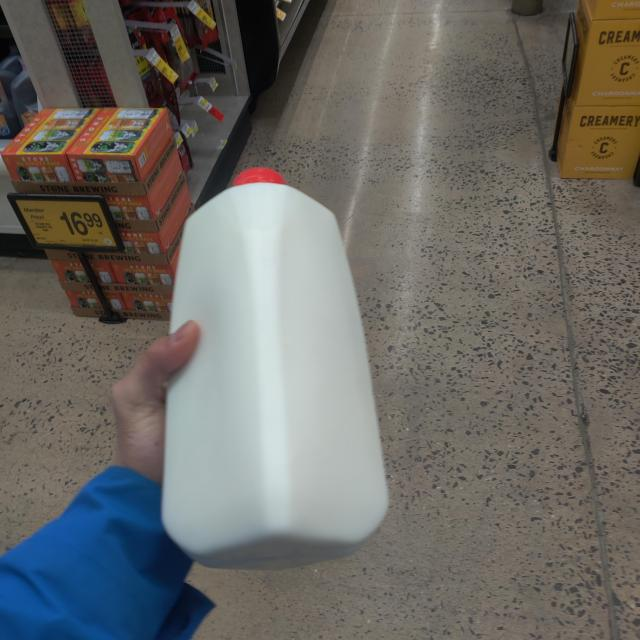Milk: (150, 154, 415, 570)
